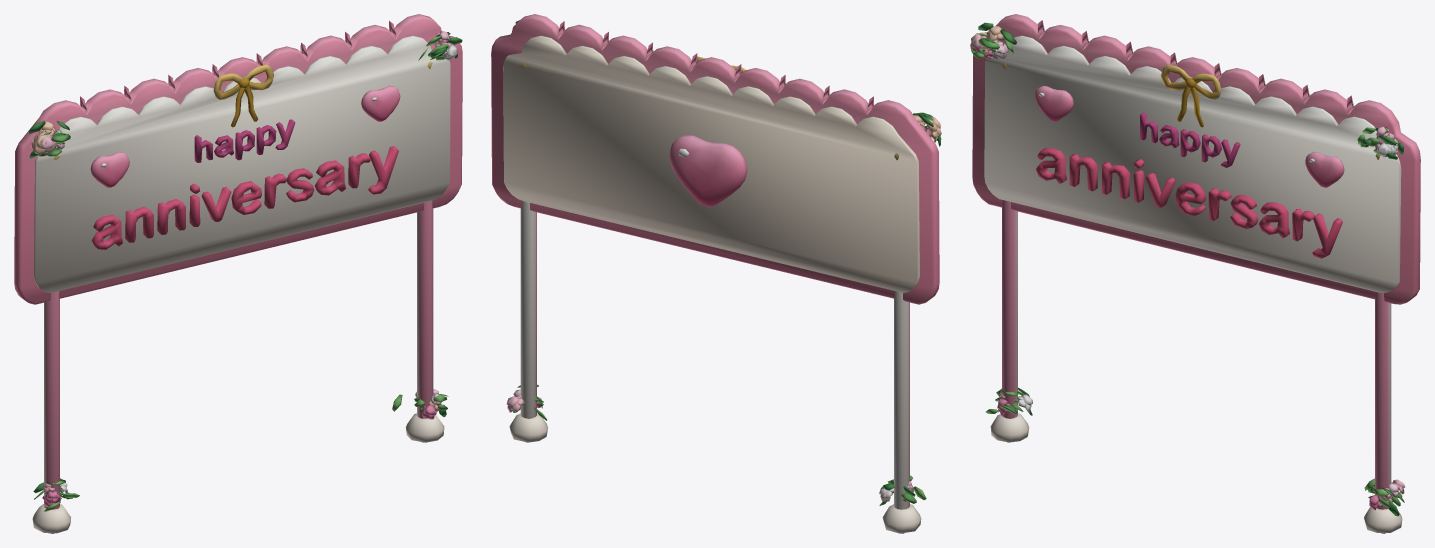
The model's file is prp_anniv_sign_anniv.glb.
The picture shows the model from 3 angles, left to right: view 1: azimuth 30°, elevation 25°; view 2: azimuth 150°, elevation 25°; view 3: azimuth 330°, elevation 25°; orthographic projection.
Parts seen in each view (by area): view 1: INST_prp_anniv_sign_anniv_sign_anniv; view 2: INST_prp_anniv_sign_anniv_sign_anniv; view 3: INST_prp_anniv_sign_anniv_sign_anniv.
Part boxes in pixels (x1=…): INST_prp_anniv_sign_anniv_sign_anniv: x1=14, y1=14, x2=462, y2=533; INST_prp_anniv_sign_anniv_sign_anniv: x1=491, y1=14, x2=941, y2=533; INST_prp_anniv_sign_anniv_sign_anniv: x1=970, y1=14, x2=1420, y2=533.
Bounding box in the file's own units: 4.77 × 4.38 × 0.6047.
